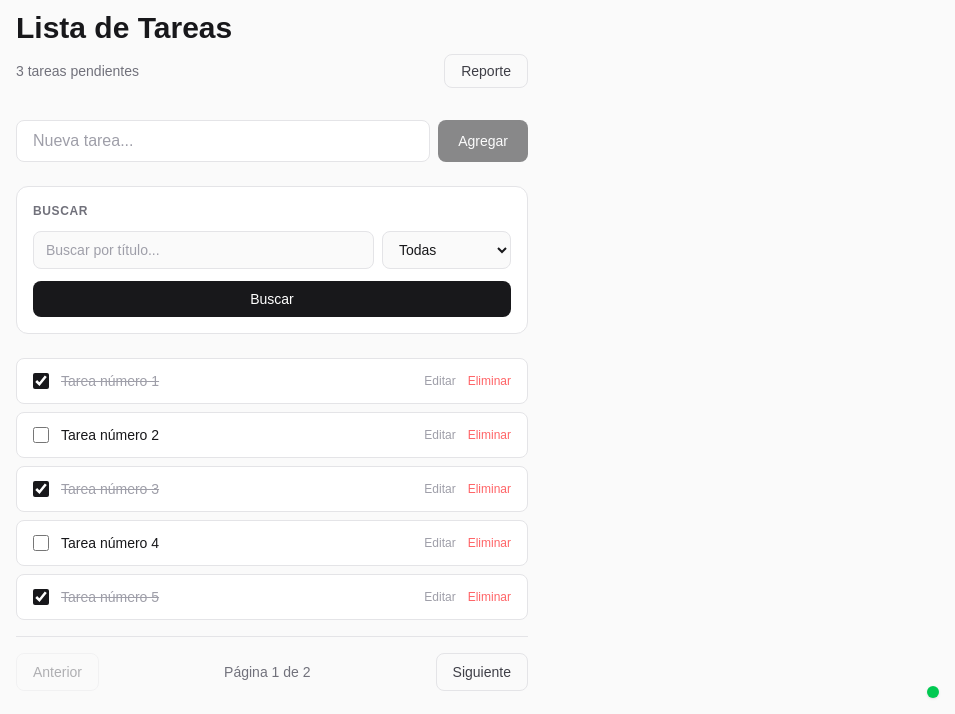
ListaTareas — paginación › navega a la siguiente página al hacer clic en Siguiente
Expected: the text "Tarea número 1" is shown, [61, 373, 159, 389]
Click the button "Siguiente" at (482, 672), box [436, 653, 528, 691]
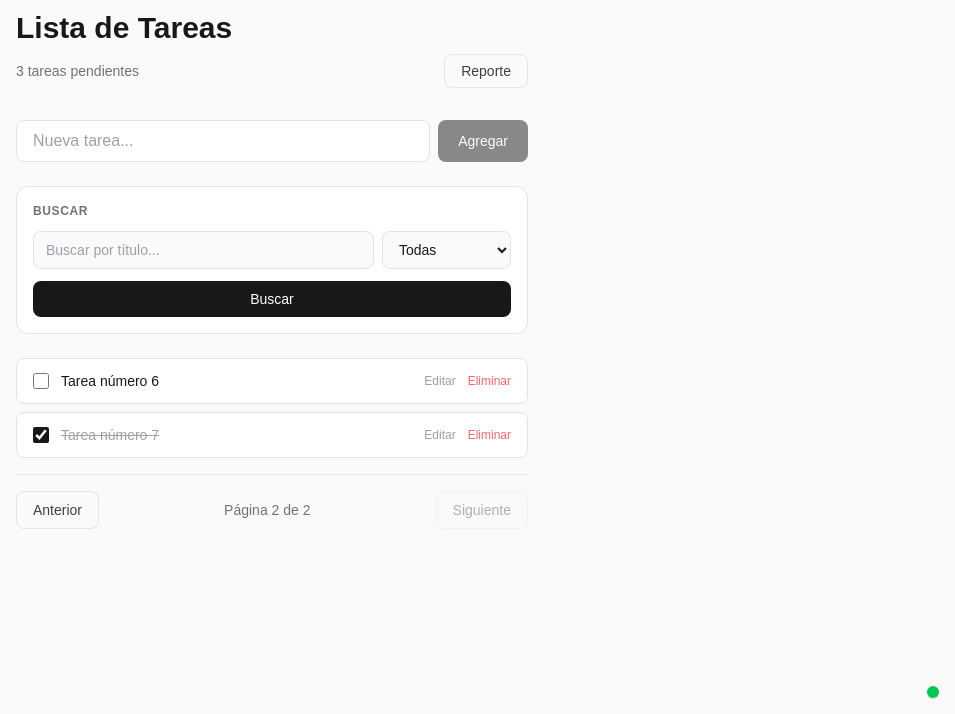
Expected: the text "Página 2 de 2" is shown, [224, 500, 310, 520]
Expected: the text "Tarea número 6" is shown, [61, 373, 159, 389]
Expected: the text "Tarea número 7" is shown, [61, 427, 159, 443]
